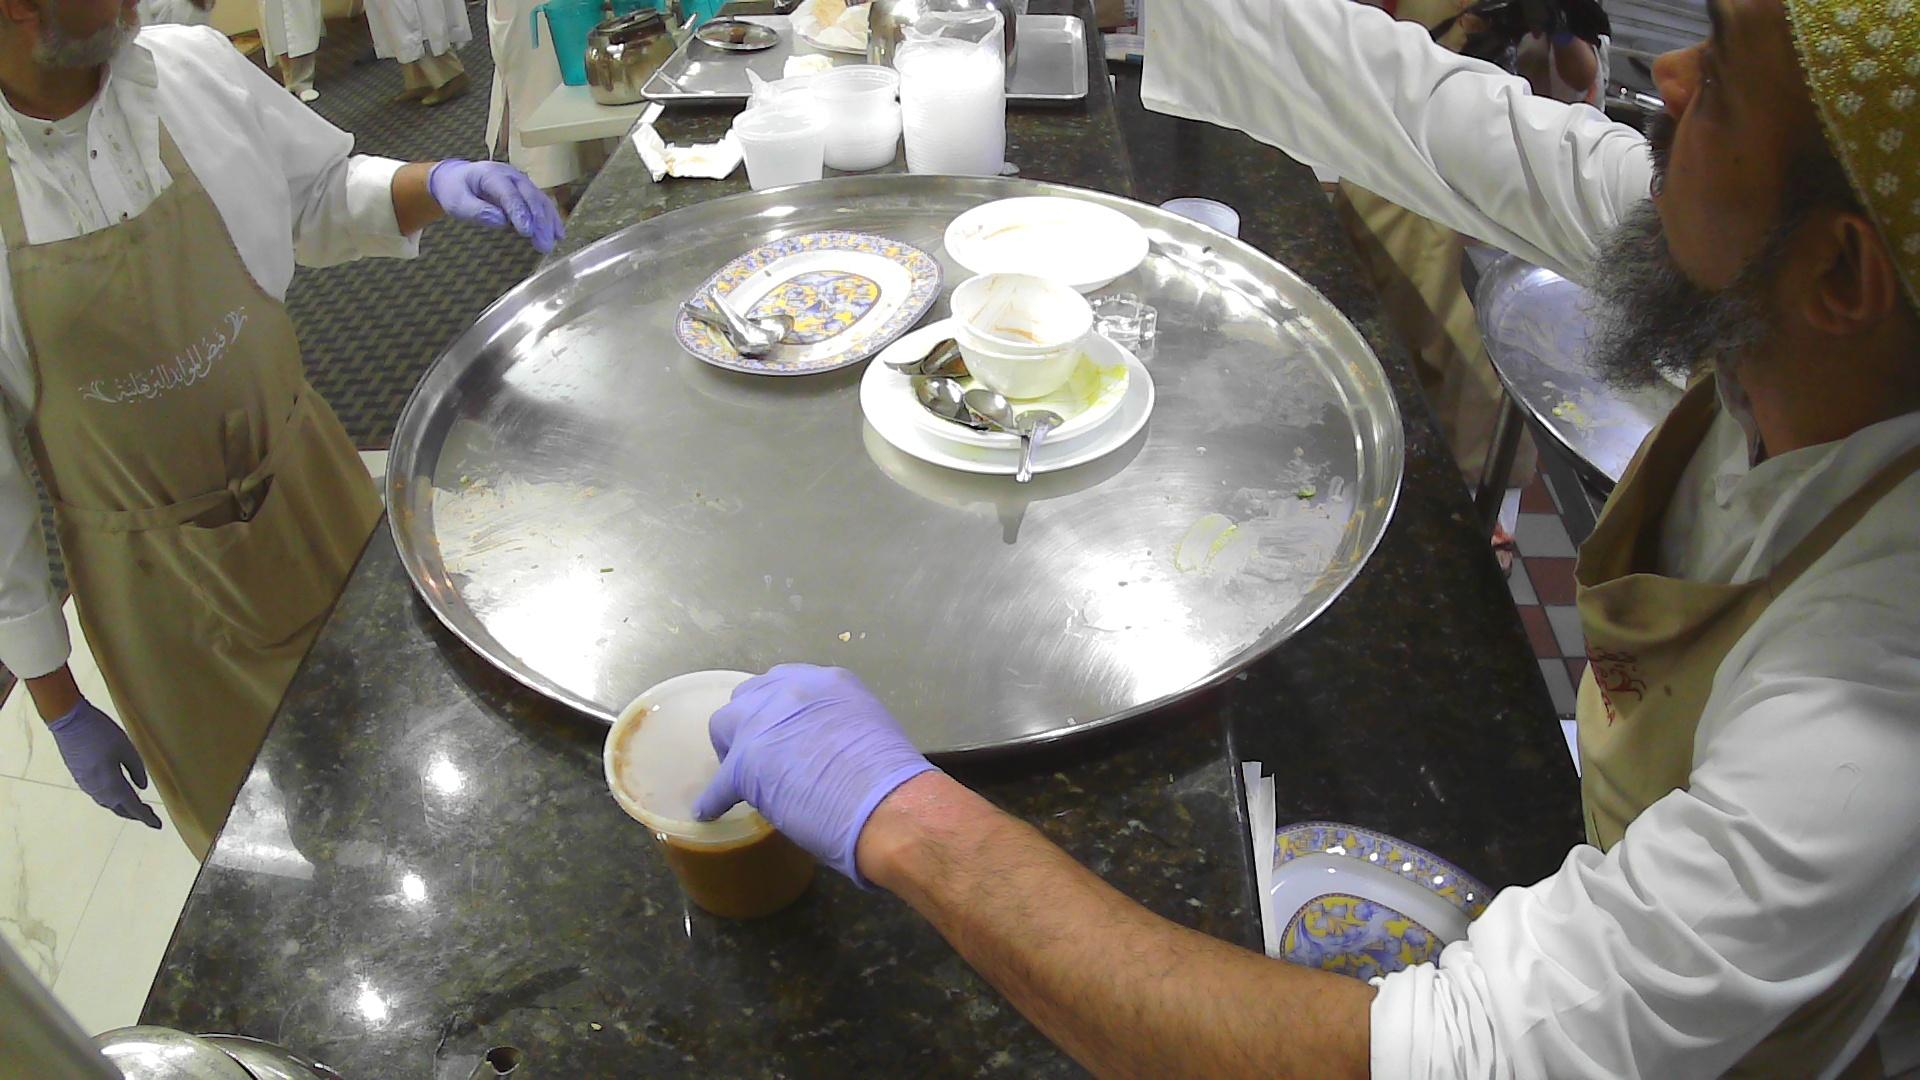thaal: (380, 162, 1411, 790)
